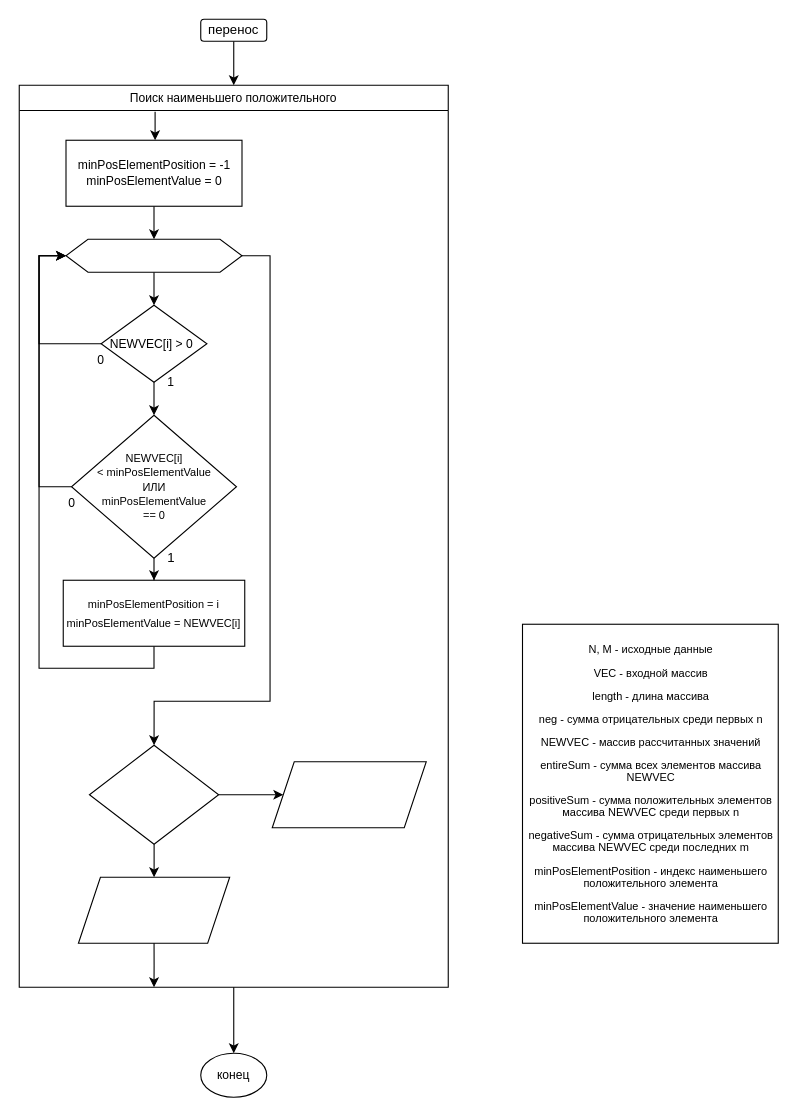
The diagram is 798 pixels wide and 1117 high, and some of its shapes have lost their labels. The centre of each missing label's shape, as x and y in pixels:
minPosElementPosition <> -1: pixel 153 794
Вывод : значения minPosElementPosition minPosElementValue: pixel 153 909
Вывод информации : в массиве нет положительных элементов: pixel 348 794
ЦИКЛ ПО i=N, M, 1: pixel 153 255
